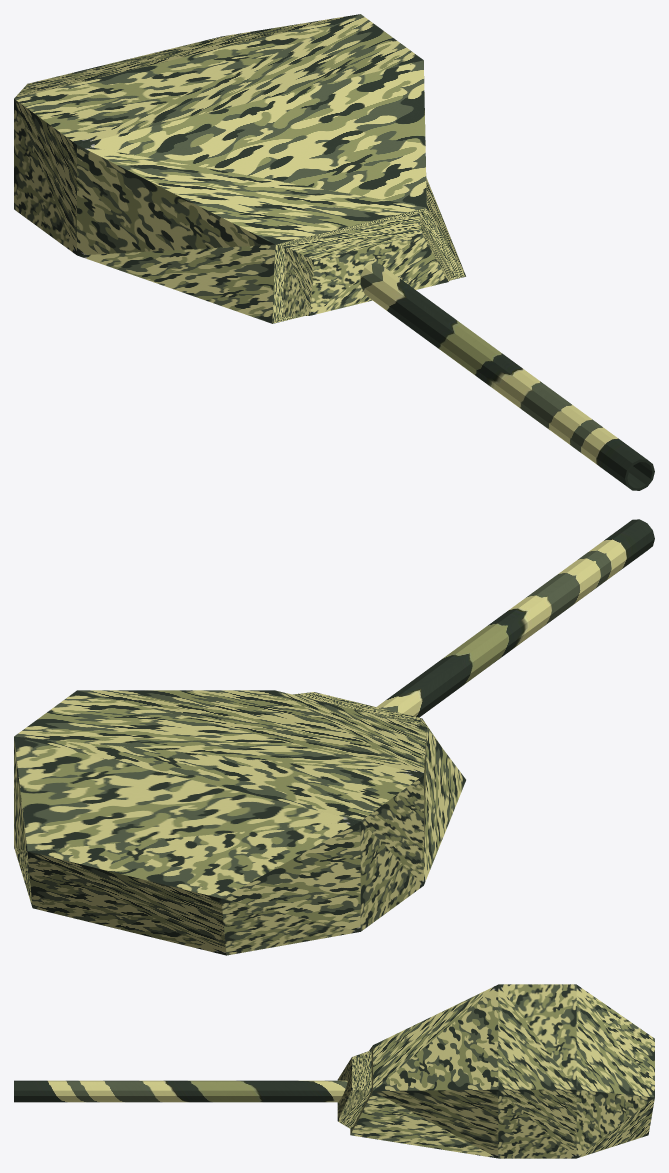
Rendered from tank_top_texture.obj.
3 renders of one model, top to bottom at view 1: azimuth 30°, elevation 25°; view 2: azimuth 150°, elevation 25°; view 3: azimuth 270°, elevation 25°, orthographic. The views are drawn at different scales.
Parts seen in each view (by area): view 1: Cylinder; view 2: Cylinder; view 3: Cylinder.
Part boxes in pixels (x1=…): Cylinder: x1=14, y1=14, x2=654, y2=490; Cylinder: x1=14, y1=519, x2=654, y2=955; Cylinder: x1=14, y1=984, x2=654, y2=1158.
Size of the model in its own units: 2.06 by 0.6291 by 5.31.
1 material, 1 textured.
